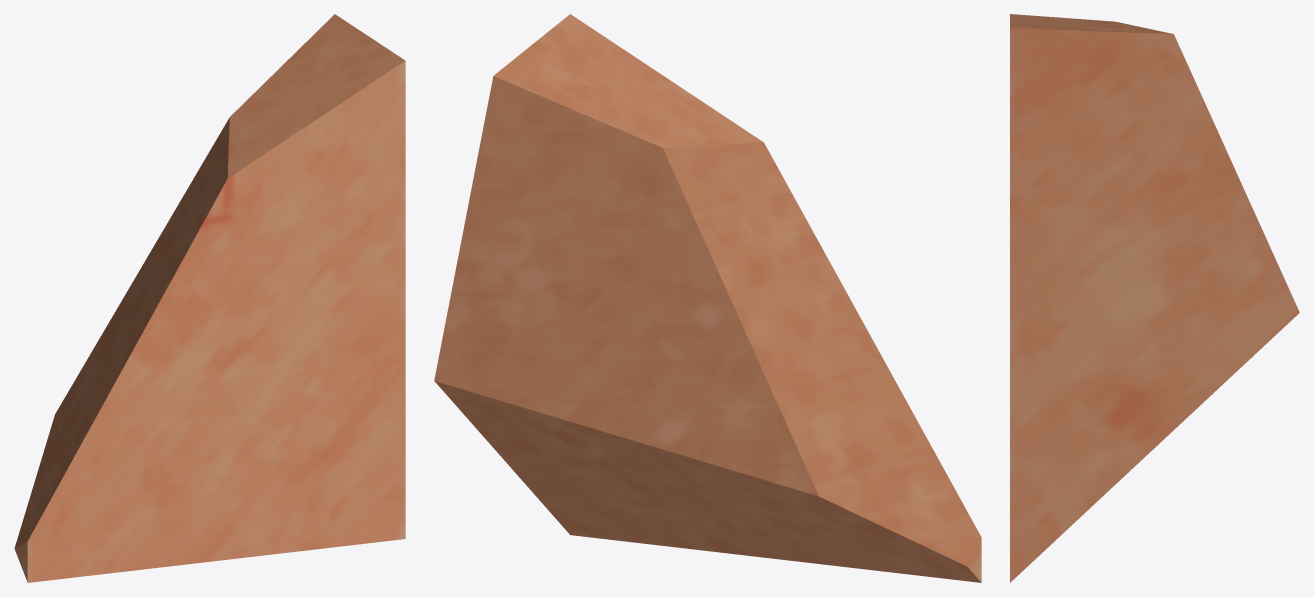
Rendered from townwall_tower_s13.fbx.
The picture shows the model from 3 angles, left to right: view 1: azimuth 30°, elevation 25°; view 2: azimuth 150°, elevation 25°; view 3: azimuth 270°, elevation 25°; orthographic projection. The views are drawn at different scales.
Parts seen in each view (by area): view 1: townwall_tower_s13; view 2: townwall_tower_s13; view 3: townwall_tower_s13.
Boxes of the visible parts, x1=… form: townwall_tower_s13: x1=14, y1=14, x2=405, y2=582; townwall_tower_s13: x1=434, y1=14, x2=981, y2=582; townwall_tower_s13: x1=1010, y1=14, x2=1299, y2=582.
Size of the model in its own units: 6.6 by 7.99 by 3.78.
